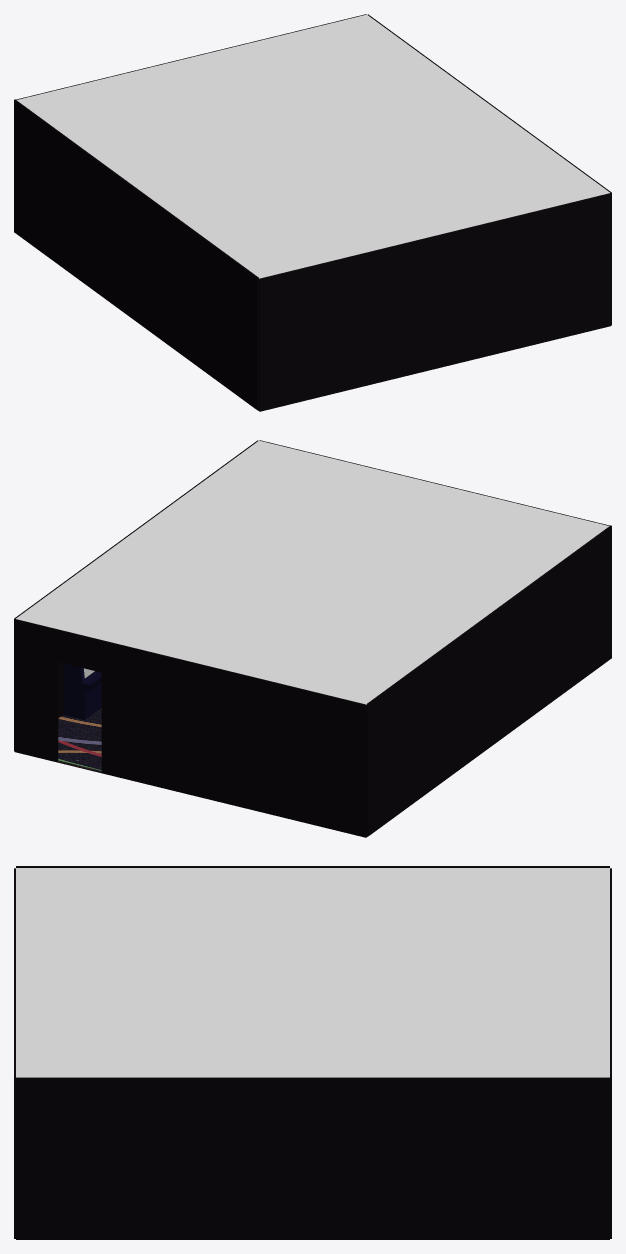
The model's file is arcadethingy (1).fbx.
3 views of the same model, one above another, from view 1: azimuth 30°, elevation 25°; view 2: azimuth 150°, elevation 25°; view 3: azimuth 270°, elevation 25° (orthographic). The views are drawn at different scales.
Parts seen in each view (by area): view 1: Ceiling, Wall4, Wall2, Wall1; view 2: Ceiling, Wall3, Wall2, Floor, ArcadeMachineWiderTaller, Wall1; view 3: Ceiling, Wall1, Wall2, Wall3, Wall4.
Boxes of the visible parts, x1,y1,x2,y2 form: Ceiling: (16,14,609,278); Wall4: (259,193,611,411); Wall2: (14,99,258,410); Wall1: (367,14,611,325); Ceiling: (16,440,609,704); Wall3: (14,619,366,837); Wall2: (367,525,611,836); Floor: (57,708,367,836); ArcadeMachineWiderTaller: (63,663,101,720); Wall1: (14,440,258,751); Ceiling: (16,868,609,1077); Wall1: (16,1077,609,1239); Wall2: (16,866,609,867); Wall3: (610,868,611,1238); Wall4: (14,868,15,1238).
Size of the model in its own units: 1260 by 454 by 1510.
14 materials, 1 textured.
